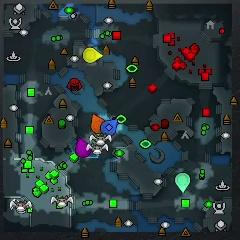p1: (100, 119, 118, 136)
p2: (175, 172, 190, 192)
p3: (76, 139, 89, 156)
p4: (83, 47, 104, 64)
p5: (90, 114, 105, 134)
